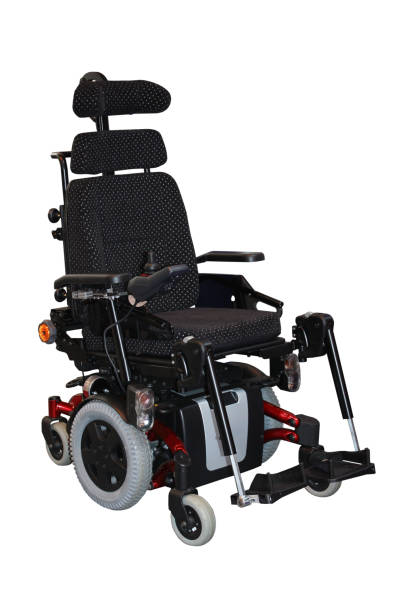wheel_chair: (32, 63, 387, 548)
